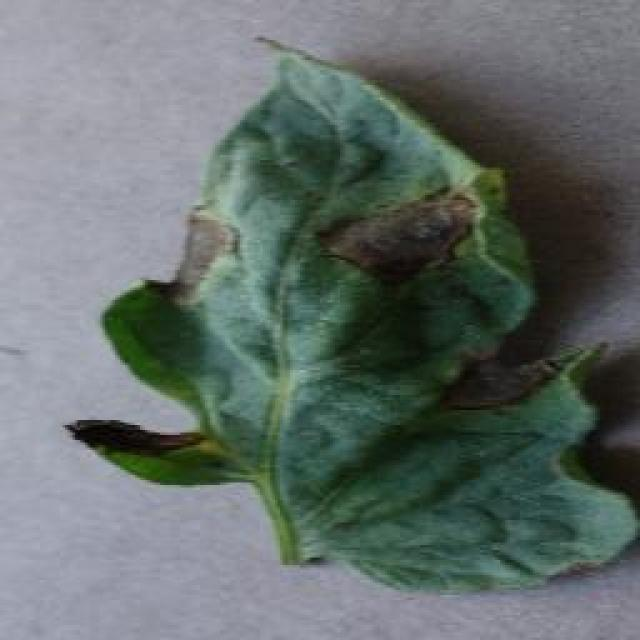Tomato Early blight leaf: (67, 31, 638, 592)
